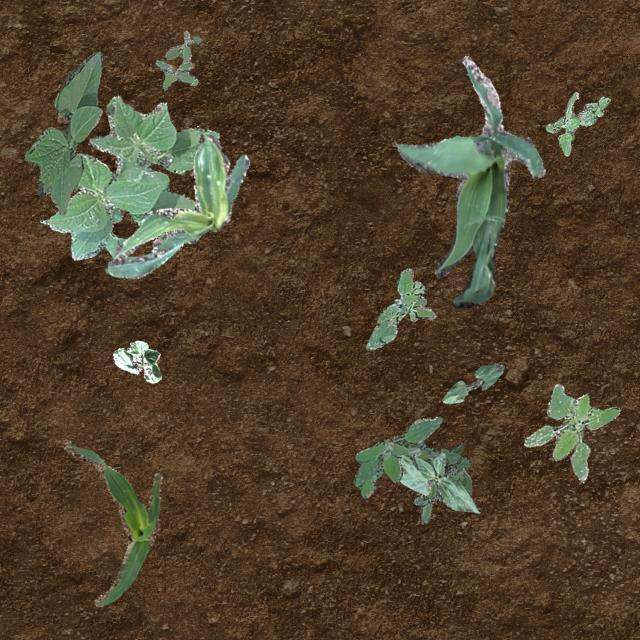crop: (394, 55, 544, 308), (40, 95, 218, 258), (104, 132, 248, 278), (60, 438, 162, 606), (24, 50, 102, 214), (398, 452, 479, 512), (441, 362, 504, 402), (111, 339, 160, 382), (102, 205, 126, 258)
weed: (522, 382, 618, 480), (352, 416, 440, 498), (364, 268, 434, 348), (408, 440, 470, 522), (545, 90, 609, 154), (154, 30, 200, 89)
